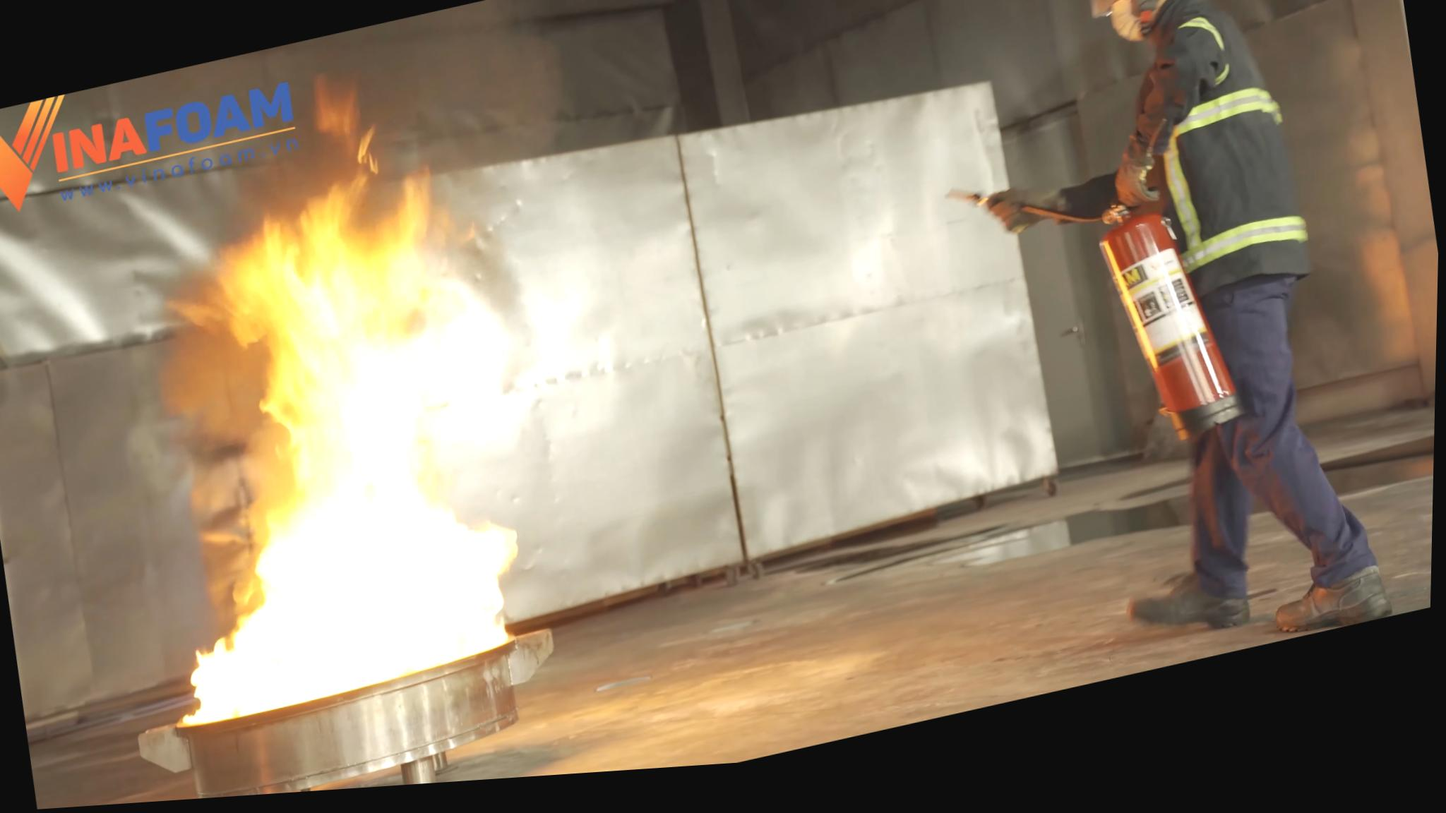FireExtinguisher: (1080, 189, 1255, 487)
not: (35, 52, 572, 810), (484, 589, 861, 787)
